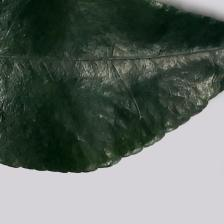healthy: (0, 1, 224, 164)
